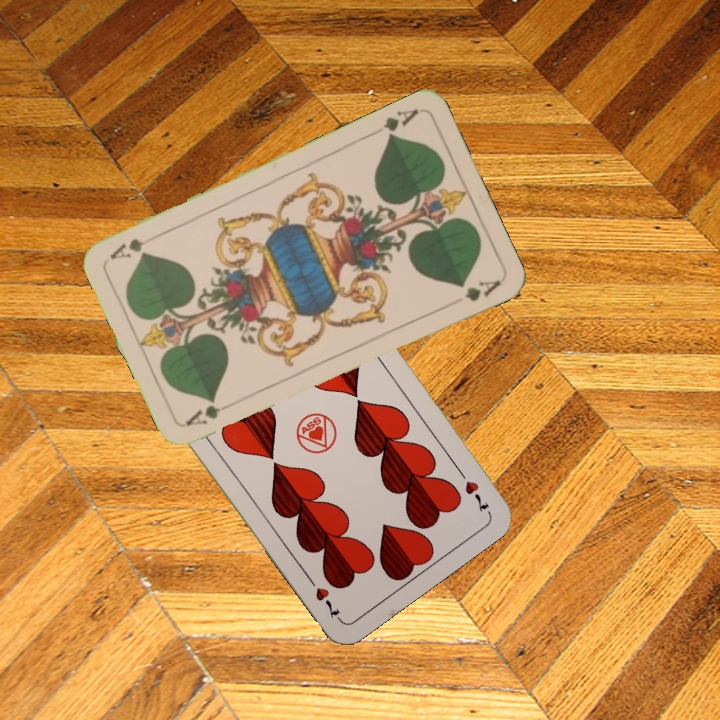GA: (181, 397, 238, 429), (379, 105, 422, 142)
H7: (452, 463, 492, 516)
